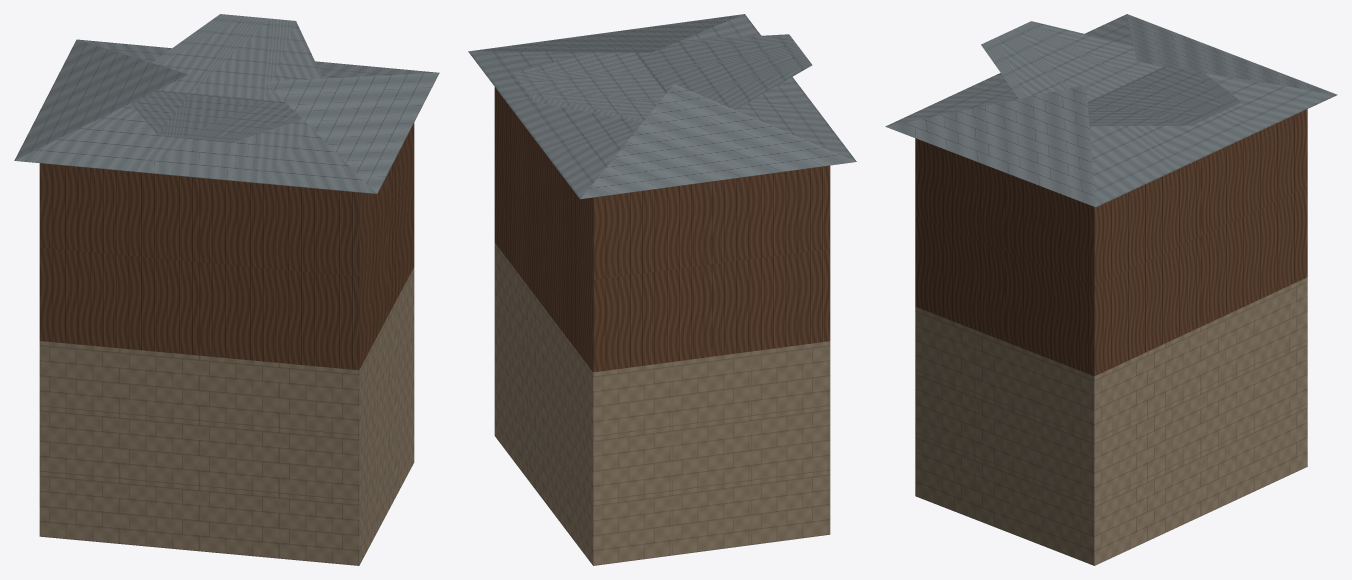
Rendered from bld_c3_27_505.gltf.
The picture shows the model from 3 angles, left to right: view 1: azimuth 30°, elevation 25°; view 2: azimuth 150°, elevation 25°; view 3: azimuth 270°, elevation 25°; orthographic projection. The views are drawn at different scales.
Visible parts, largest first — view 1: bld_c3_27_505; view 2: bld_c3_27_505; view 3: bld_c3_27_505.
Boxes of the visible parts, left/top/right/bottom form: bld_c3_27_505: left=14, top=14, right=439, bottom=565; bld_c3_27_505: left=468, top=14, right=856, bottom=565; bld_c3_27_505: left=885, top=14, right=1337, bottom=565.
Size of the model in its own units: 11.08 by 10.9 by 10.96.
3 materials, 3 textured.
